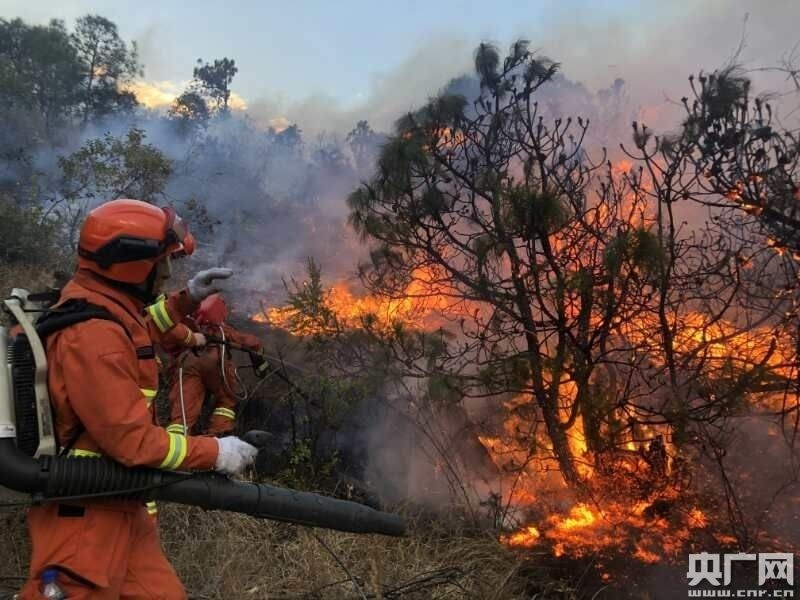fire: (344, 155, 800, 564), (97, 68, 241, 111)
